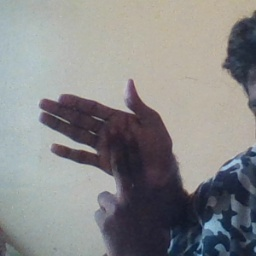N: (26, 74, 188, 240)
